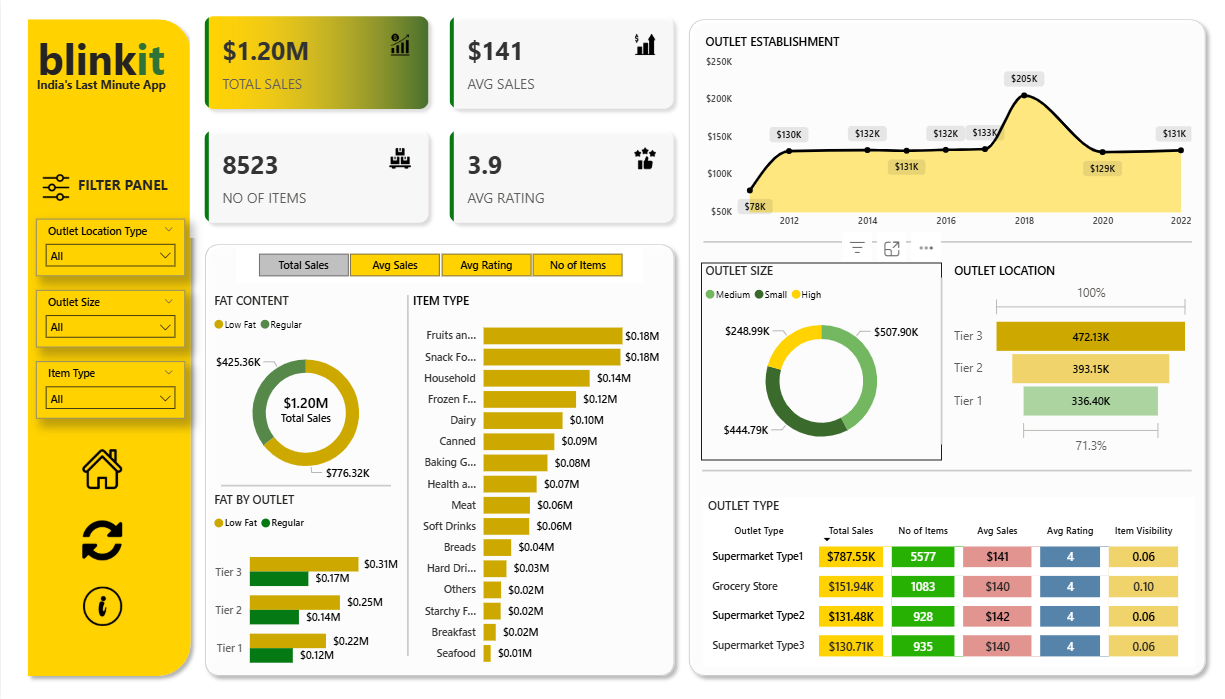

Layout of this report page (visuals, bound fields, positions):
{"tool":"powerbi","page":{"name":"Page 1","canvas":[1400,800],"ordinal":0},"visuals":[{"type":"shape","box":[21.4,12.9,204.3,768.6],"z":0},{"type":"textbox","box":[264.2,681.4,204.1,69],"z":1000},{"type":"textbox","box":[36.2,28.5,157.7,73.8],"z":2000},{"type":"textbox","box":[36.2,83.1,158.5,37.7],"z":3000},{"type":"cardVisual","fields":{"Data":["BlinkIT Grocery Data.Total Sales","BlinkIT Grocery Data.Avg Sales","BlinkIT Grocery Data.No of Items","BlinkIT Grocery Data.Avg Rating"]},"box":[215.7,1.4,570,270],"z":4000},{"type":"shape","box":[224.3,270,554.3,511.4],"z":5000},{"type":"donutChart","title":"FAT CONTENT","fields":{"Y":["BlinkIT Grocery Data.Total Sales"],"Category":["BlinkIT Grocery Data.Item Fat Content"]},"box":[238.6,334.3,220,230],"z":6000},{"type":"slicer","fields":{"Values":["Metrics.Metrics"]},"box":[268.6,282.9,465.7,40],"z":7000},{"type":"cardVisual","fields":{"Data":["BlinkIT Grocery Data.Total Sales"]},"box":[292.9,431.4,111.4,67.1],"z":8000},{"type":"clusteredBarChart","title":"FAT BY OUTLET","fields":{"Y":["BlinkIT Grocery Data.Total Sales"],"Category":["BlinkIT Grocery Data.Outlet Location Type"],"Series":["BlinkIT Grocery Data.Item Fat Content"]},"box":[238.6,561.4,220,220],"z":9000},{"type":"shape","box":[251.4,548.6,194.3,12.9],"z":10000},{"type":"shape","box":[458.6,337.1,12.9,412.9],"z":11000},{"type":"barChart","title":"ITEM TYPE","fields":{"Y":["BlinkIT Grocery Data.Total Sales"],"Category":["BlinkIT Grocery Data.Item Type"]},"box":[465.7,334.3,291.4,437.1],"z":12000},{"type":"shape","box":[777.1,12.9,608.6,768.6],"z":13000},{"type":"lineChart","title":"OUTLET ESTABLISHMENT  ","fields":{"Y":["BlinkIT Grocery Data.Total Sales"],"Category":["BlinkIT Grocery Data.Outlet Establishment Year"]},"box":[800,38.6,565.7,231.4],"z":14000},{"type":"shape","box":[802.9,270,558.6,12.9],"z":15000},{"type":"donutChart","title":"OUTLET SIZE","fields":{"Y":["BlinkIT Grocery Data.Total Sales"],"Category":["BlinkIT Grocery Data.Outlet Size"]},"box":[800,300,275.5,225.5],"z":16000},{"type":"shape","box":[1069.1,317.3,12.7,190.9],"z":17000},{"type":"funnel","title":"OUTLET LOCATION ","fields":{"Y":["Sum(BlinkIT Grocery Data.Sales)"],"Category":["BlinkIT Grocery Data.Outlet Location Type"]},"box":[1083.6,300,279.1,225.5],"z":18000},{"type":"shape","box":[801.8,530.9,559.1,12.7],"z":19000},{"type":"pivotTable","title":"OUTLET TYPE","fields":{"Rows":["BlinkIT Grocery Data.Outlet Type"],"Values":["BlinkIT Grocery Data.Total Sales","BlinkIT Grocery Data.No of Items","BlinkIT Grocery Data.Avg Sales","BlinkIT Grocery Data.Avg Rating","Avg(BlinkIT Grocery Data.Item Visibility)"]},"box":[802.7,569.1,561.8,192.7],"z":20000},{"type":"slicer","fields":{"Values":["BlinkIT Grocery Data.Outlet Location Type"]},"box":[40,250,170,65.7],"z":21000},{"type":"slicer","fields":{"Values":["BlinkIT Grocery Data.Outlet Size"]},"box":[40,331.4,170,65.7],"z":22000},{"type":"slicer","fields":{"Values":["BlinkIT Grocery Data.Item Type"]},"box":[40,412.9,170,65.7],"z":23000},{"type":"textbox","box":[82.9,194.3,124.3,40],"z":23001},{"type":"image","box":[42.9,194.3,40,40],"z":23002},{"type":"image","box":[85.7,508.6,60,55.7],"z":23003},{"type":"image","box":[85.7,665.7,60,54.3],"z":23004},{"type":"image","box":[85.7,590,60,55.7],"z":23005}]}

Visuals, with their boxes in screenshot pixels (x1, y1, x2, y2), scaled from the page's 1400x800 canvas onto the 1225x699 screenshot:
shape: pyautogui.locateOnScreen(19, 11, 197, 683)
textbox: pyautogui.locateOnScreen(231, 595, 410, 656)
textbox: pyautogui.locateOnScreen(32, 25, 170, 89)
textbox: pyautogui.locateOnScreen(32, 73, 170, 106)
cardVisual - BlinkIT Grocery Data.Total Sales x BlinkIT Grocery Data.Avg Sales: pyautogui.locateOnScreen(189, 1, 687, 237)
shape: pyautogui.locateOnScreen(196, 236, 681, 683)
"FAT CONTENT" donutChart: pyautogui.locateOnScreen(209, 292, 401, 493)
slicer - Metrics.Metrics: pyautogui.locateOnScreen(235, 247, 643, 282)
cardVisual - BlinkIT Grocery Data.Total Sales: pyautogui.locateOnScreen(256, 377, 354, 436)
"FAT BY OUTLET" clusteredBarChart: pyautogui.locateOnScreen(209, 491, 401, 683)
shape: pyautogui.locateOnScreen(220, 479, 390, 491)
shape: pyautogui.locateOnScreen(401, 295, 413, 655)
"ITEM TYPE" barChart: pyautogui.locateOnScreen(407, 292, 662, 674)
shape: pyautogui.locateOnScreen(680, 11, 1212, 683)
"OUTLET ESTABLISHMENT  " lineChart: pyautogui.locateOnScreen(700, 34, 1195, 236)
shape: pyautogui.locateOnScreen(703, 236, 1191, 247)
"OUTLET SIZE" donutChart: pyautogui.locateOnScreen(700, 262, 941, 459)
shape: pyautogui.locateOnScreen(935, 277, 947, 444)
"OUTLET LOCATION " funnel: pyautogui.locateOnScreen(948, 262, 1192, 459)
shape: pyautogui.locateOnScreen(702, 464, 1191, 475)
"OUTLET TYPE" pivotTable: pyautogui.locateOnScreen(702, 497, 1194, 666)
slicer - BlinkIT Grocery Data.Outlet Location Type: pyautogui.locateOnScreen(35, 218, 184, 276)
slicer - BlinkIT Grocery Data.Outlet Size: pyautogui.locateOnScreen(35, 290, 184, 347)
slicer - BlinkIT Grocery Data.Item Type: pyautogui.locateOnScreen(35, 361, 184, 418)
textbox: pyautogui.locateOnScreen(73, 170, 181, 205)
image: pyautogui.locateOnScreen(38, 170, 73, 205)
image: pyautogui.locateOnScreen(75, 444, 127, 493)
image: pyautogui.locateOnScreen(75, 582, 127, 629)
image: pyautogui.locateOnScreen(75, 516, 127, 564)
